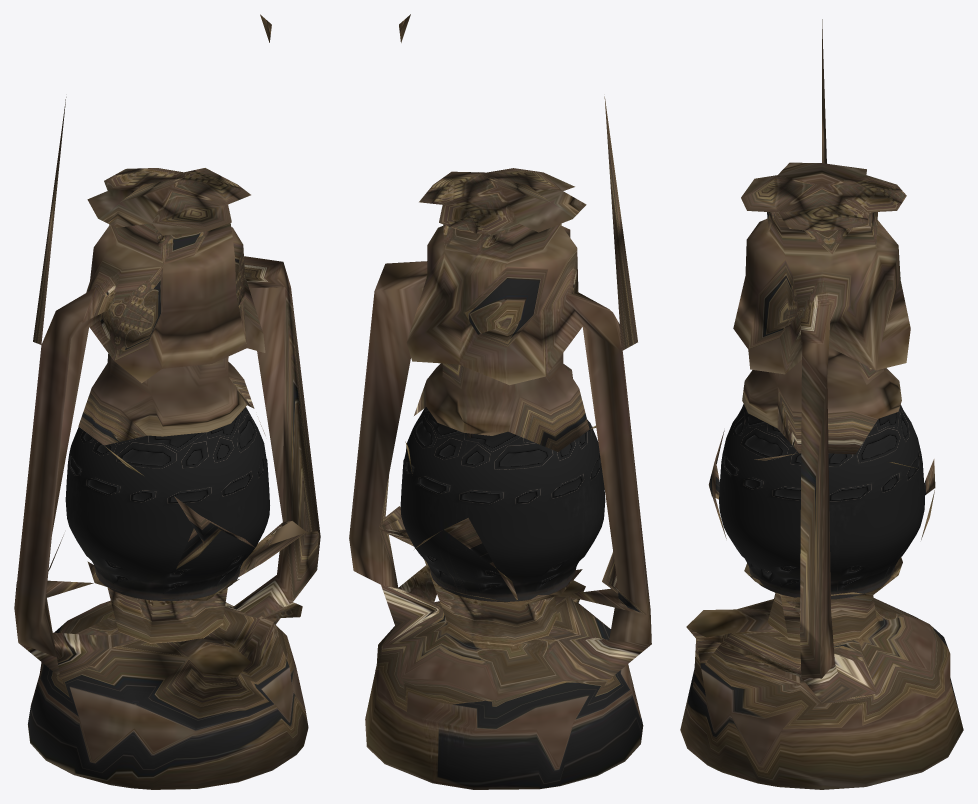
File: lg-p-lantern.glb
3 views of the same model, side by side, from view 1: azimuth 30°, elevation 25°; view 2: azimuth 150°, elevation 25°; view 3: azimuth 270°, elevation 25° (orthographic).
Parts seen in each view (by area): view 1: Lantern_01, Lantern_01_glass; view 2: Lantern_01, Lantern_01_glass; view 3: Lantern_01, Lantern_01_glass.
Part boxes in pixels (<box>): Lantern_01: <box>14,14,320,789</box>; Lantern_01_glass: <box>65,407,269,601</box>; Lantern_01: <box>349,14,651,789</box>; Lantern_01_glass: <box>400,407,605,601</box>; Lantern_01: <box>680,19,963,789</box>; Lantern_01_glass: <box>719,404,924,599</box>.
Bounding box in the file's own units: 0.1202 × 0.2643 × 0.097.
2 materials, 2 textured.
